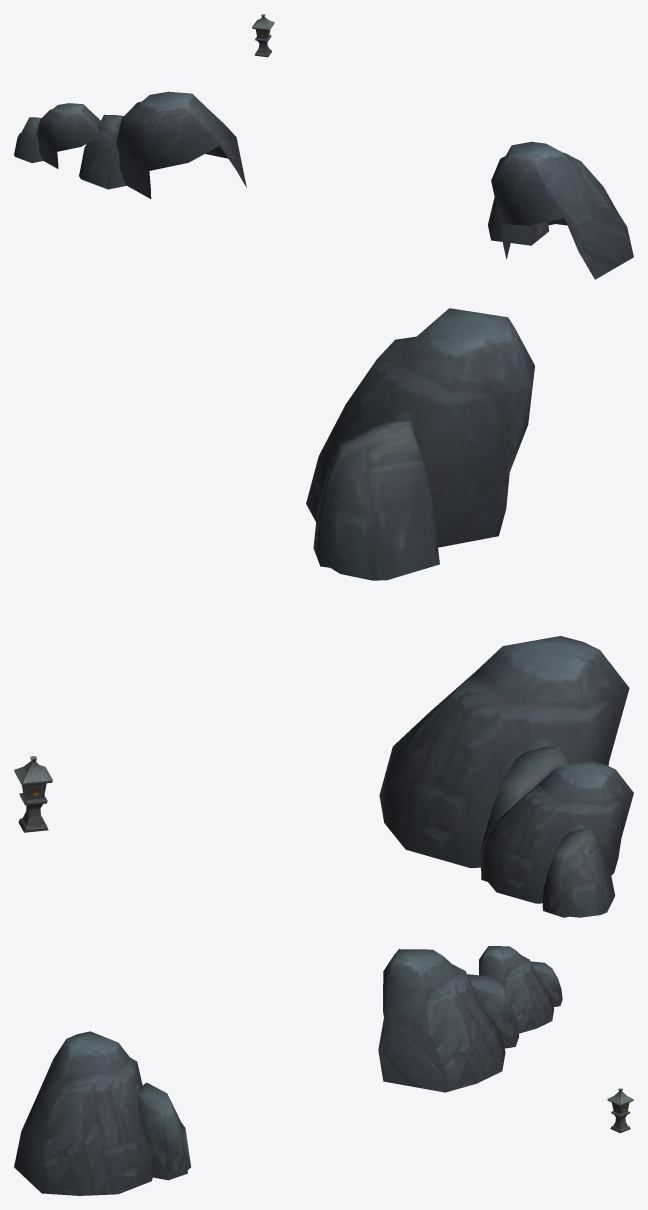
File: Area_06_24.fbx
3 renders of one model, top to bottom at view 1: azimuth 30°, elevation 25°; view 2: azimuth 150°, elevation 25°; view 3: azimuth 270°, elevation 25°, orthographic. The views are drawn at different scales.
Parts seen in each view (by area): view 1: Area_06_24; view 2: Area_06_24; view 3: Area_06_24.
Boxes of the visible parts, <box> form: Area_06_24: <box>14,14,633,279</box>; Area_06_24: <box>14,308,633,917</box>; Area_06_24: <box>14,946,633,1195</box>.
Size of the model in its own units: 2315 by 648 by 3185.
